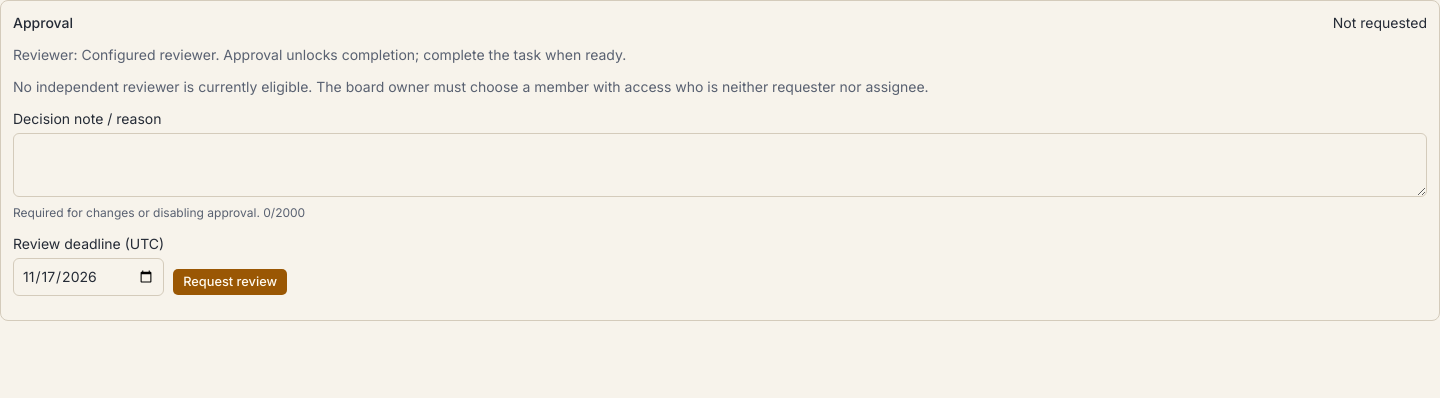
Test case: refreshes a known stale revision without resubmitting and preserves the note for an explicit new action
This screenshot has width=1440, height=398.
Later steps or results of the test are not shown.
Expected: the text "Not requested" is shown, [1333,13,1427,33]
Type "Keep this note" into the text box named "Approval note".
click(720, 165); type("Keep this note")  # box [13,133,1427,197]
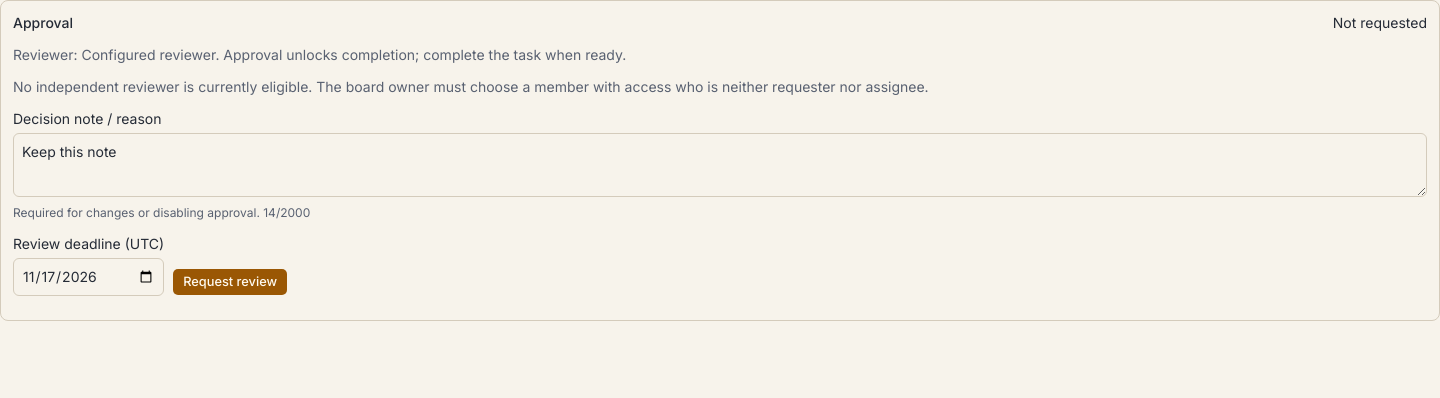
Click the button "Request review".
click(230, 282)  # box [172,268,288,296]
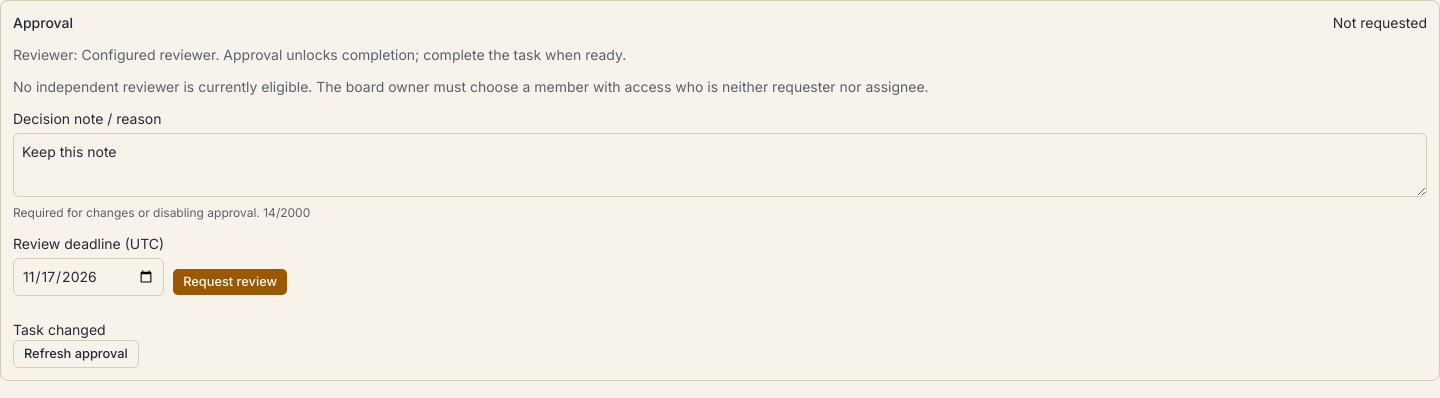
Expected: the message "Task changed Refresh approval" is shown, [13,321,139,368]
